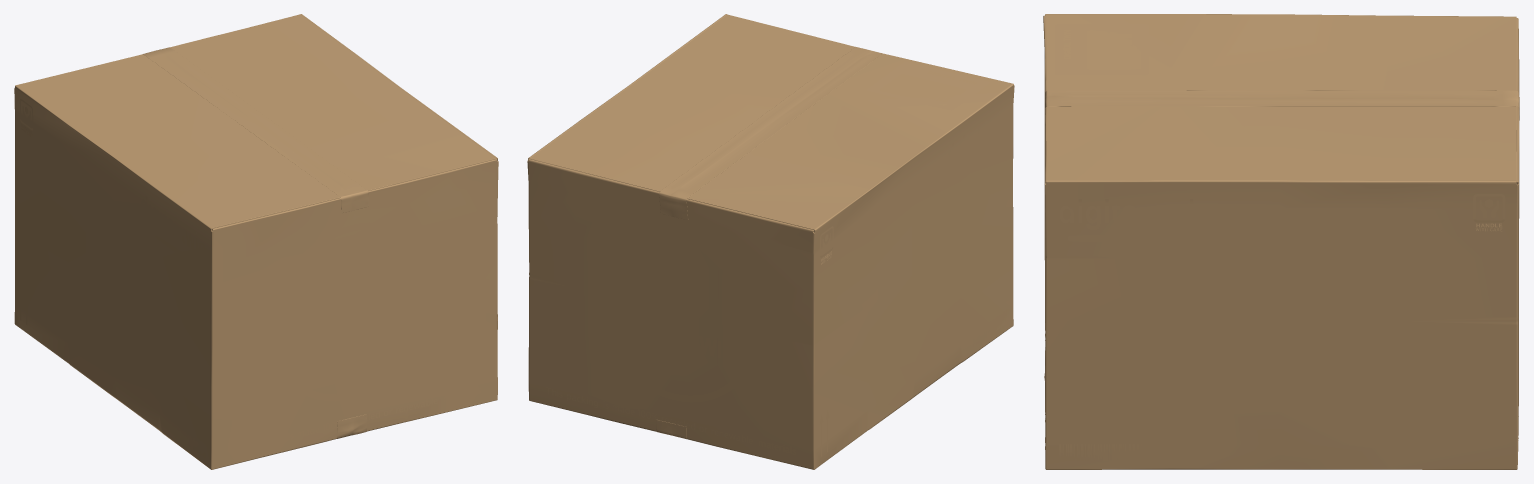
The model's file is box_corrugated_white_b25.glb.
The picture shows the model from 3 angles, left to right: view 1: azimuth 30°, elevation 25°; view 2: azimuth 150°, elevation 25°; view 3: azimuth 270°, elevation 25°; orthographic projection. The views are drawn at different scales.
Bounding box in the file's own units: 0.253 × 0.2037 × 0.3027.
